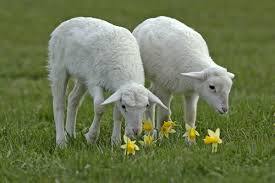koyun: (42, 10, 152, 147), (160, 10, 235, 138)
